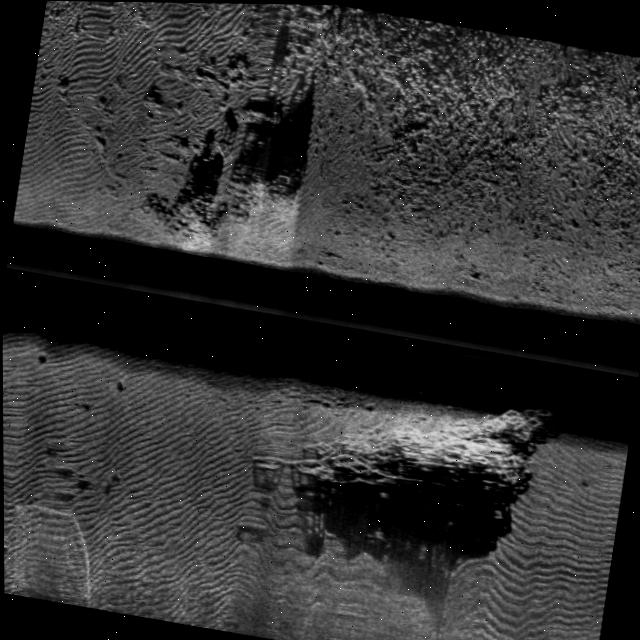artificial reef: (266, 354, 560, 521)
